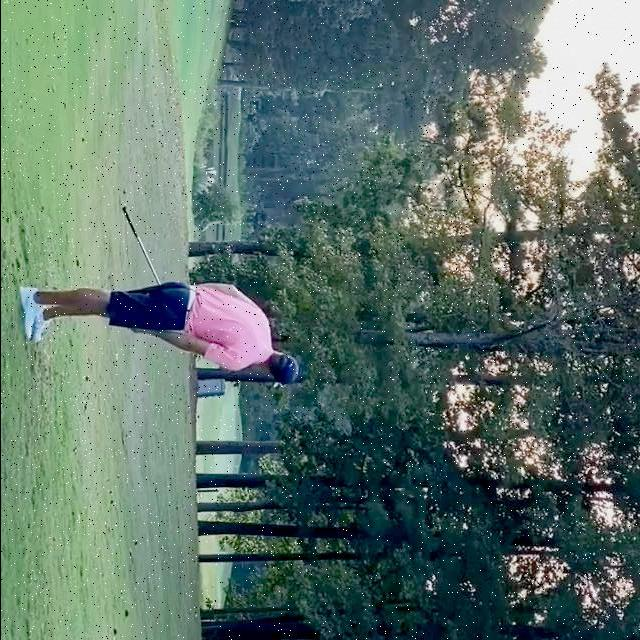golf club-handle: (120, 207, 161, 289)
